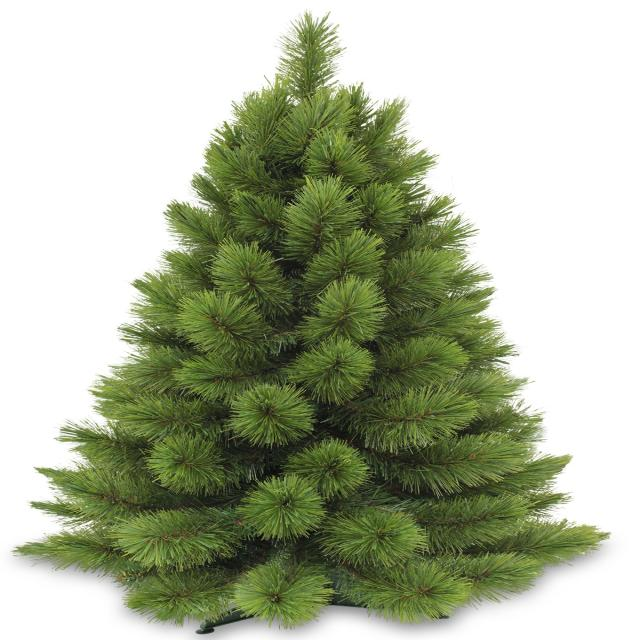Christmas-tree: (29, 14, 624, 640)
